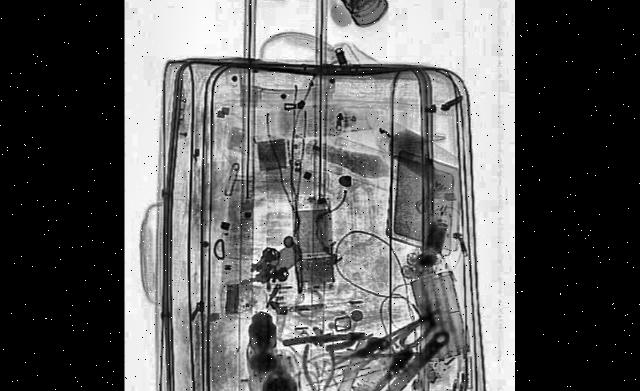Pliers: (304, 339, 337, 391)
Wrench: (335, 309, 457, 391)
